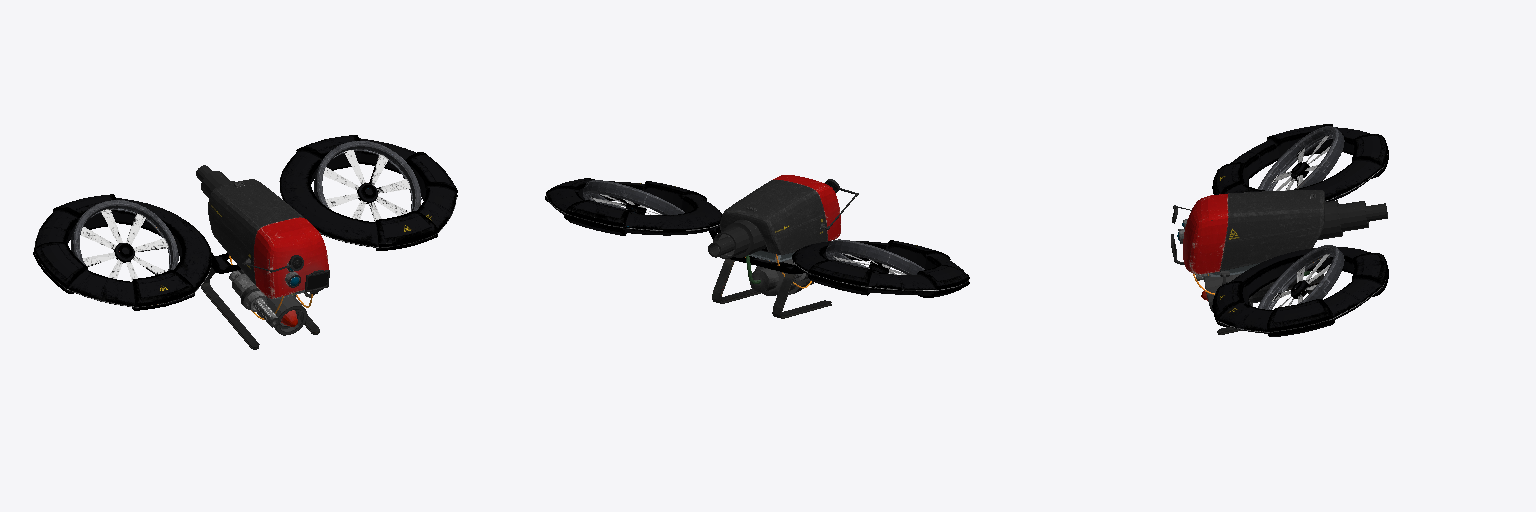
3 renders of one model, left to right at view 1: azimuth 30°, elevation 25°; view 2: azimuth 150°, elevation 25°; view 3: azimuth 270°, elevation 25°, orthographic.
Parts seen in each view (by area): view 1: Cube.007_meshId0_name, Cylinder.022_meshId1_name; view 2: Cube.007_meshId0_name, Cylinder.022_meshId1_name; view 3: Cube.007_meshId0_name, Cylinder.022_meshId1_name.
Part boxes in pixels (x1,y1,x2,y2): Cube.007_meshId0_name: (33, 135, 457, 349); Cylinder.022_meshId1_name: (196, 165, 329, 335); Cube.007_meshId0_name: (545, 175, 969, 318); Cylinder.022_meshId1_name: (708, 179, 858, 295); Cube.007_meshId0_name: (1177, 124, 1388, 336); Cylinder.022_meshId1_name: (1171, 194, 1387, 311).
Bounding box in the file's own units: 2 × 0.6065 × 0.9466.
Materials: 2 (2 with a texture image).